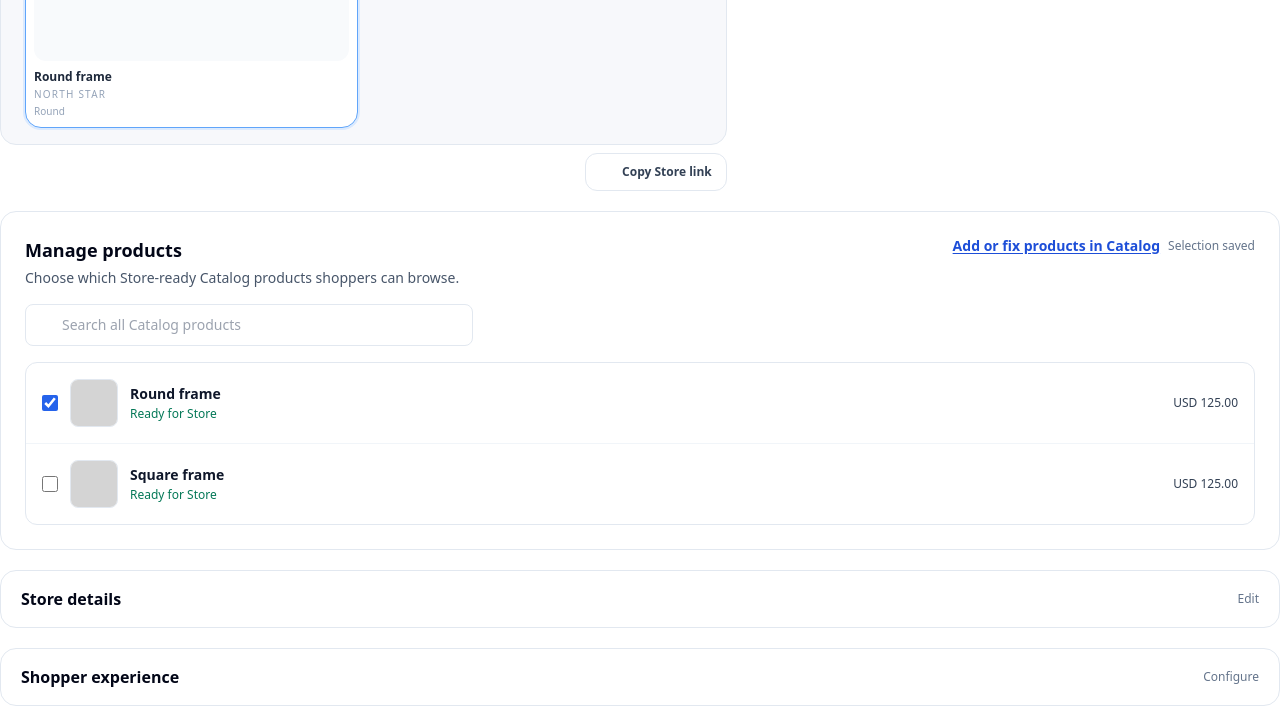
Scenario: MerchantStoreWorkspace lifecycle UX › keeps Live status and public link while warning before details save changes reach shoppers
The image size is (1280, 706).
(page scrolled)
Click the text "Store details" at (71, 599), box [21, 587, 121, 611]
(page scrolled)
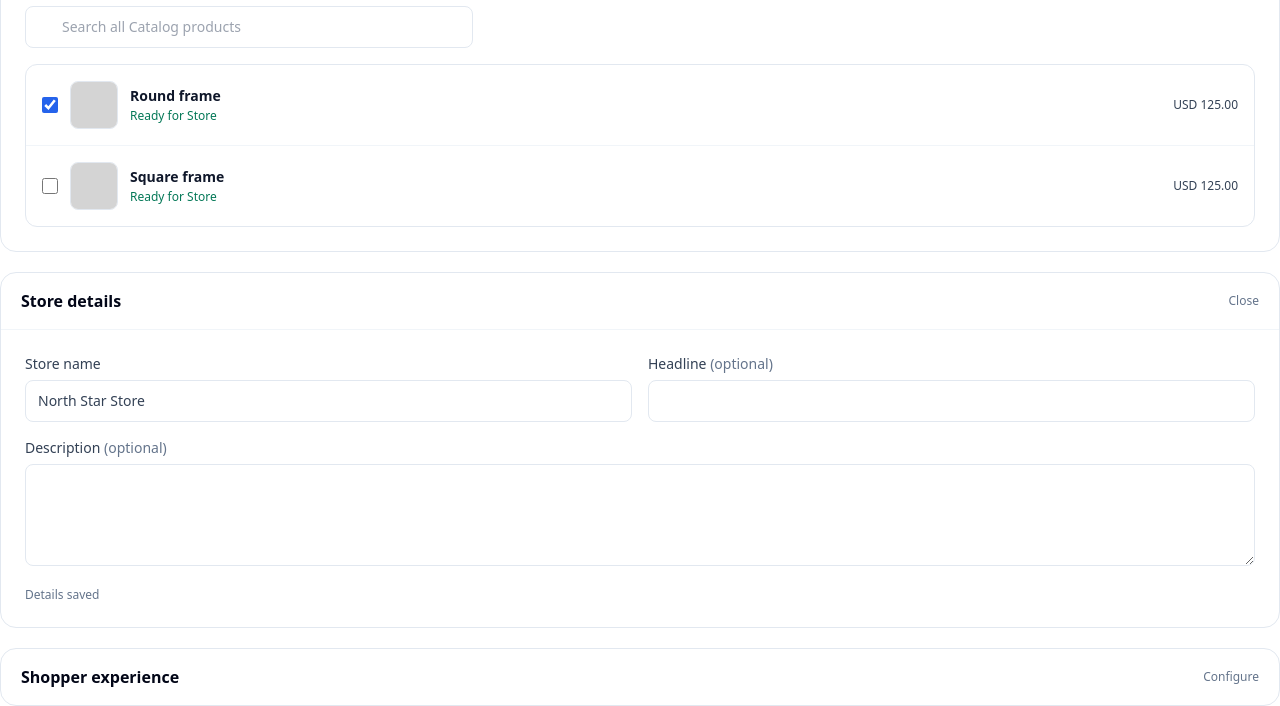
Type "New live headline" into the field labelled "Headline (optional)" at (952, 401), box [648, 380, 1255, 422]
(page scrolled)
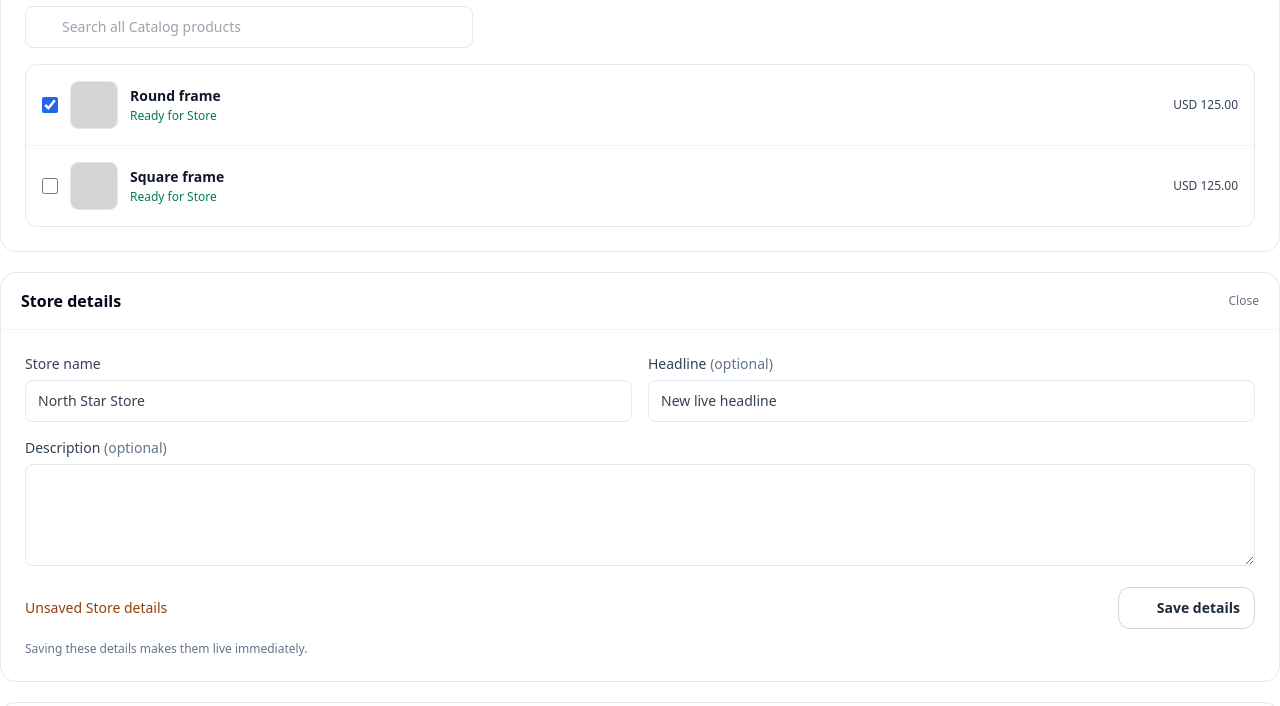
Result: the text "Saving these details makes them live immediately." is shown at [25, 640, 308, 657]
Click the button "Save details" at (1186, 608), box [1118, 587, 1255, 629]
(page scrolled)
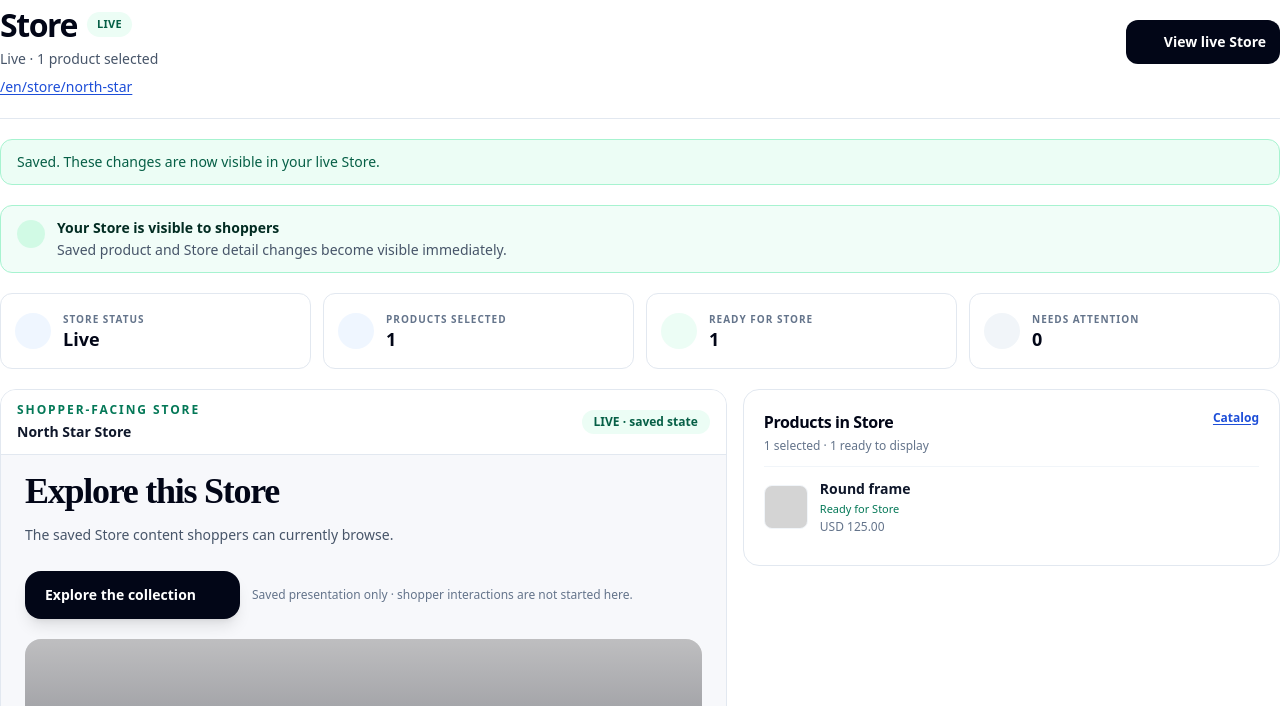
Result: the text "Saved. These changes are now visible in your live Store." is shown at [0, 138, 1279, 184]
